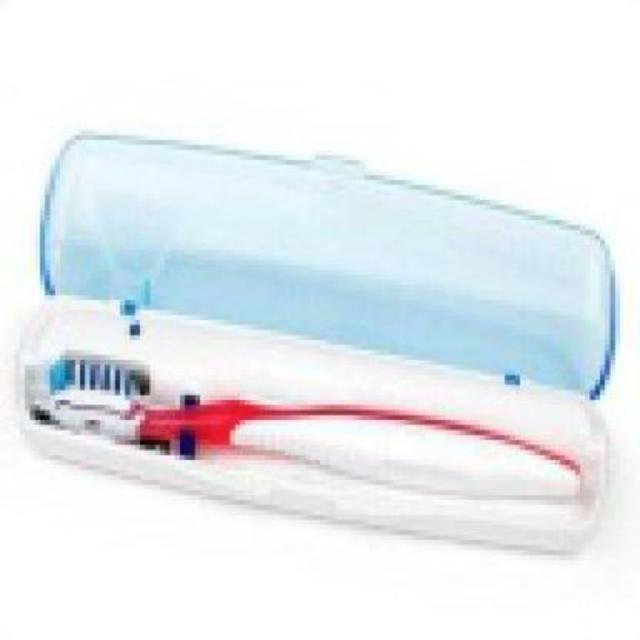toothbrush: (26, 290, 590, 560)
